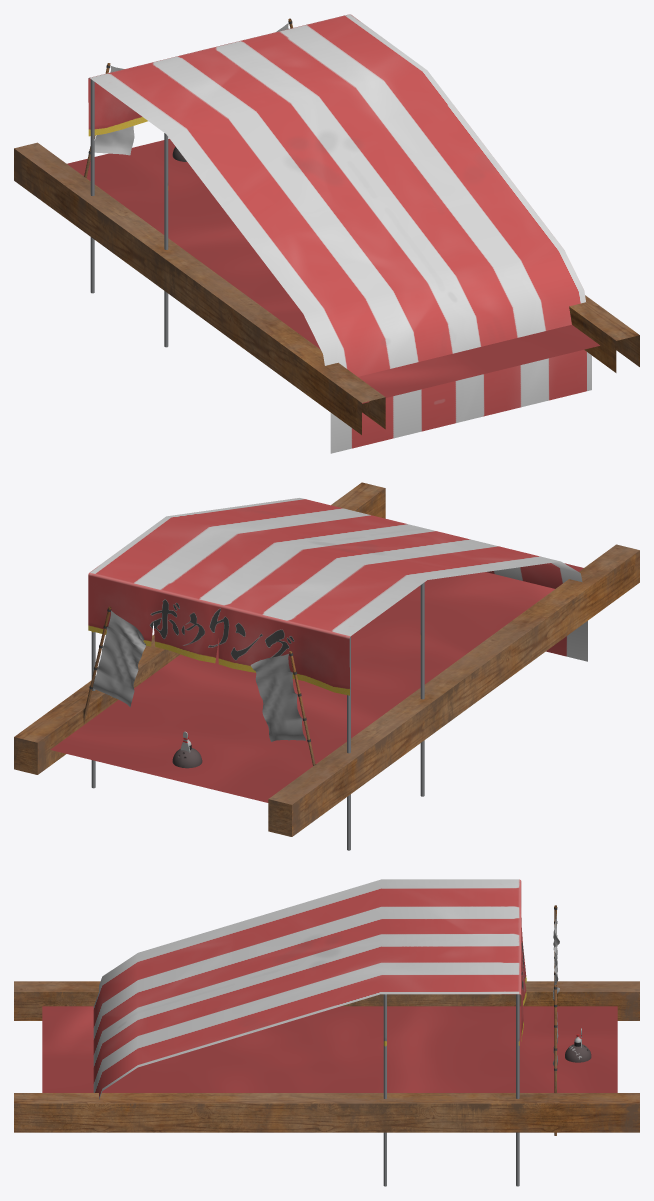
File: bowling_all_01.fbx
3 renders of one model, top to bottom at view 1: azimuth 30°, elevation 25°; view 2: azimuth 150°, elevation 25°; view 3: azimuth 270°, elevation 25°, orthographic. The views are drawn at different scales.
Parts seen in each view (by area): view 1: YATAI, wall1, YUKA, wall, polySurface2; view 2: YATAI, YUKA, wall1, wall, polySurface1, polySurface2; view 3: YATAI, YUKA, wall, wall1.
Part boxes in pixels (x1=…): YATAI: x1=88, y1=14, x2=591, y2=453; wall1: x1=14, y1=142, x2=385, y2=434; YUKA: x1=67, y1=138, x2=599, y2=403; wall: x1=569, y1=295, x2=639, y2=372; polySurface2: x1=94, y1=66, x2=134, y2=155; YATAI: x1=88, y1=498, x2=587, y2=850; YUKA: x1=50, y1=563, x2=583, y2=802; wall1: x1=268, y1=544, x2=639, y2=836; wall: x1=14, y1=482, x2=385, y2=774; polySurface1: x1=93, y1=610, x2=145, y2=707; polySurface2: x1=250, y1=654, x2=305, y2=741; YATAI: x1=93, y1=879, x2=526, y2=1186; YUKA: x1=42, y1=1006, x2=617, y2=1092; wall: x1=14, y1=1093, x2=639, y2=1132; wall1: x1=14, y1=981, x2=639, y2=1020.
Size of the model in its own units: 16.9 by 12.47 by 36.64.
